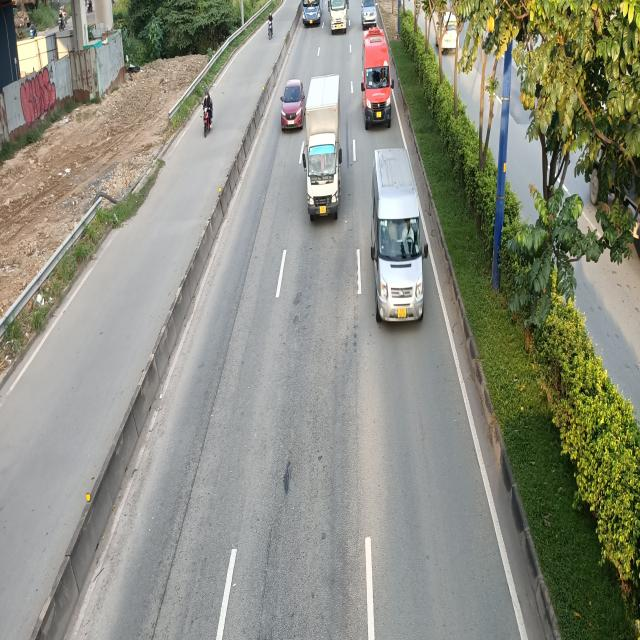car: (280, 80, 306, 132)
truck: (304, 76, 345, 220), (330, 0, 348, 33)
van: (368, 147, 428, 323), (360, 28, 392, 129)
